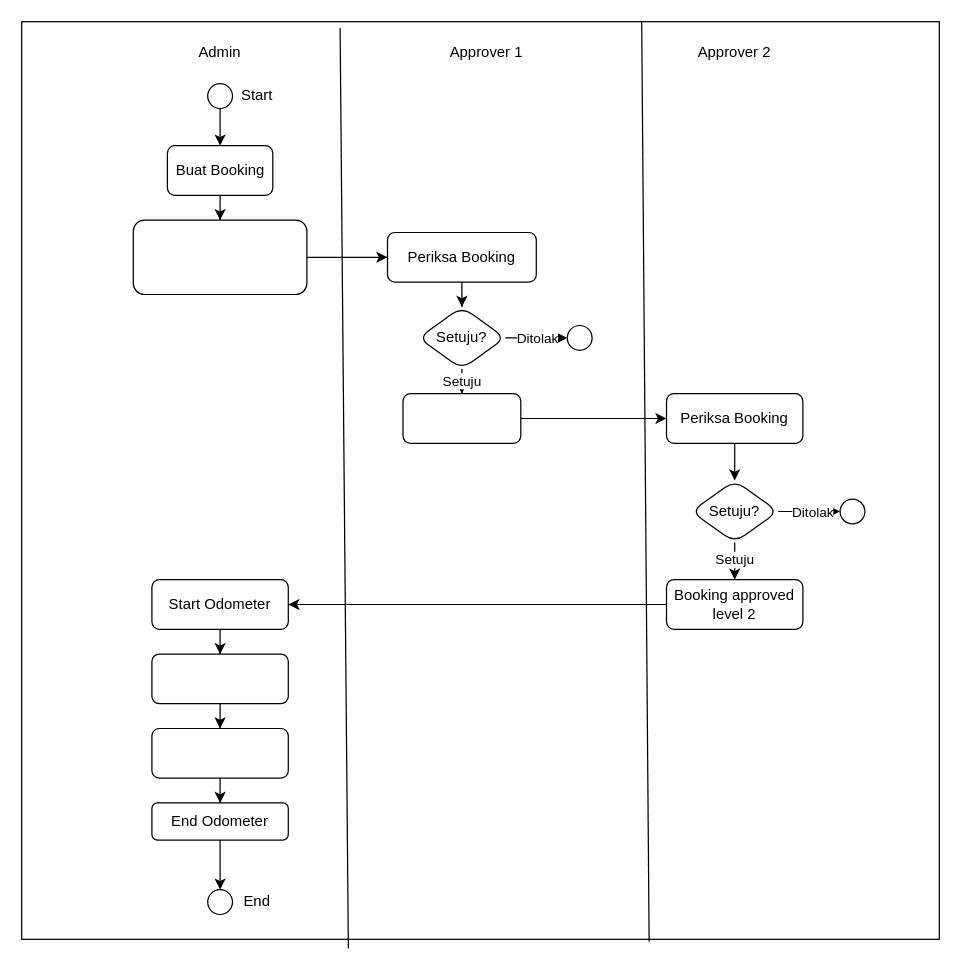
This 961x972 diagram has some shape labels left out. The shapes that lost their labels are listed below. From the top down, each one's centre as x and y in pixels, then its label:
the point at 219,256: Pilih vehicle, driver, approver 1, approver 2
the point at 461,417: Booking approved level 1
the point at 219,678: Status booking ongoing
the point at 219,752: Status booking completed
